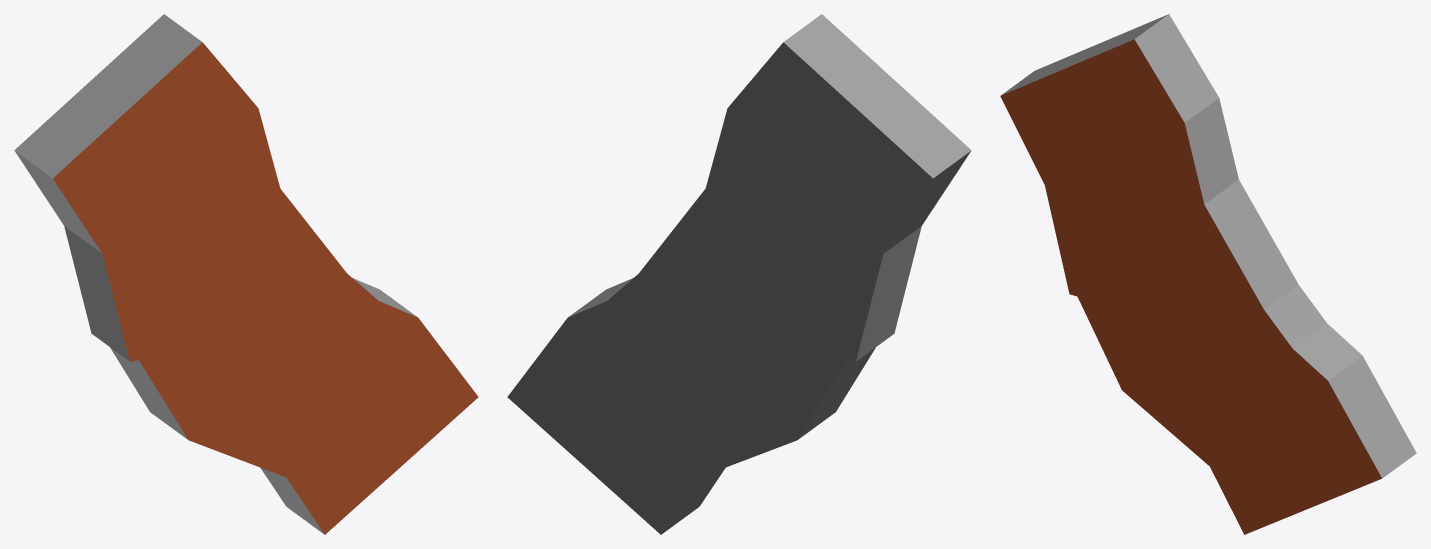
Rendered from construction_1799_assumed_A_Casa_h6m.obj.
3 renders of one model, left to right at view 1: azimuth 30°, elevation 25°; view 2: azimuth 150°, elevation 25°; view 3: azimuth 330°, elevation 25°, orthographic. The views are drawn at different scales.
Parts seen in each view (by area): view 1: construction_1799_assumed_A_Casa; view 2: construction_1799_assumed_A_Casa; view 3: construction_1799_assumed_A_Casa.
Part boxes in pixels (x1,y1,x2,y2): construction_1799_assumed_A_Casa: (14,14,478,534); construction_1799_assumed_A_Casa: (507,14,971,534); construction_1799_assumed_A_Casa: (1000,14,1416,534).
Bounding box in the file's own units: 38.33 × 44.94 × 6.
